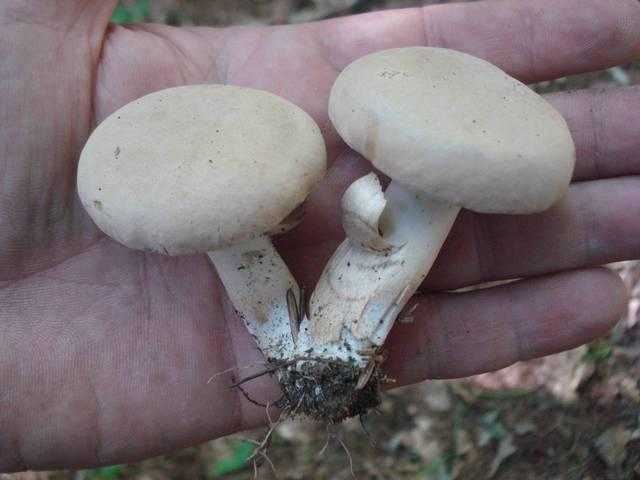edible_mushroom: (75, 44, 576, 424)
